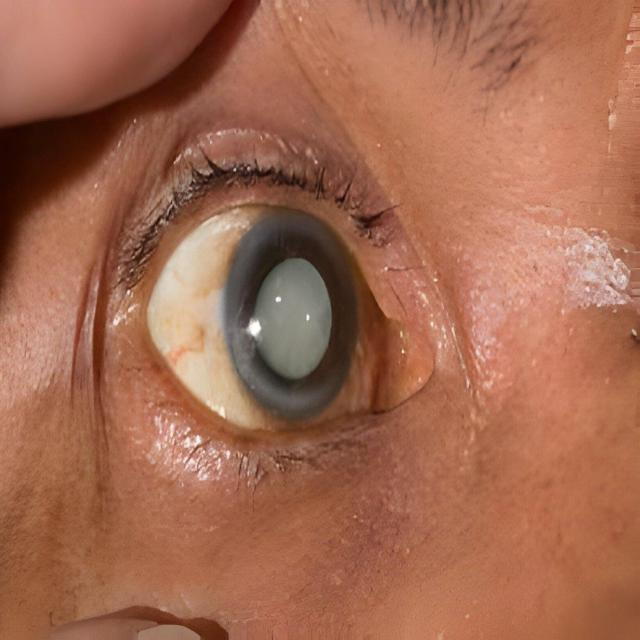Cataract: (222, 205, 373, 416)
